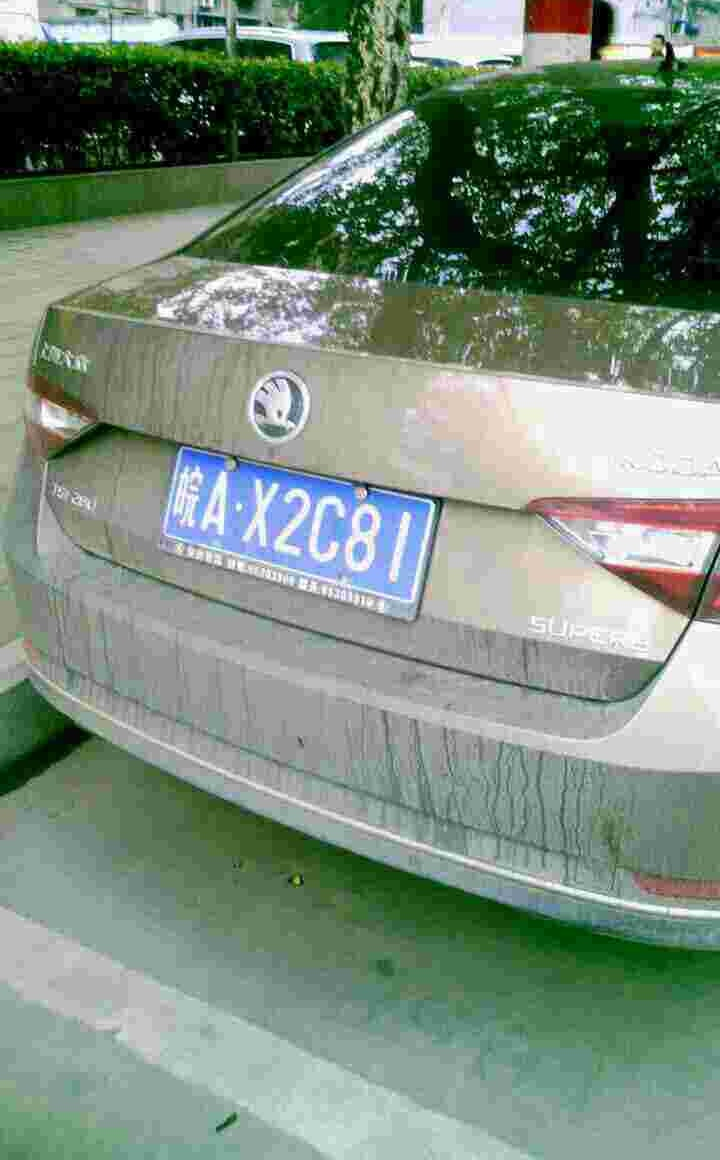license_plate: (162, 442, 436, 602)
